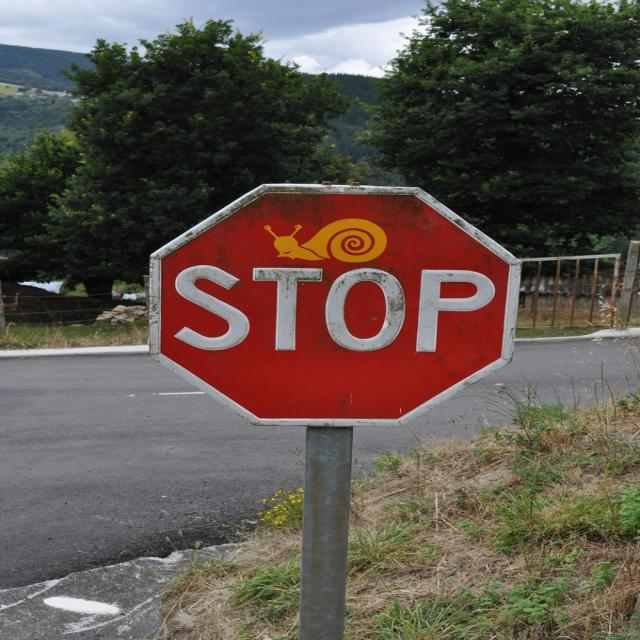Stop-sign: (144, 180, 520, 428)
